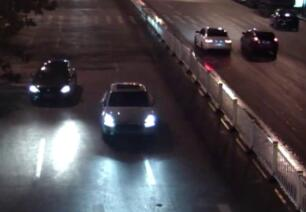car: (97, 77, 161, 143), (24, 54, 79, 107), (190, 23, 235, 55), (239, 26, 277, 62), (273, 7, 299, 29)
